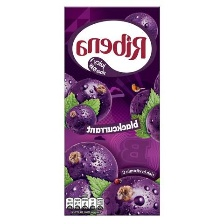carton: (60, 4, 164, 217)
